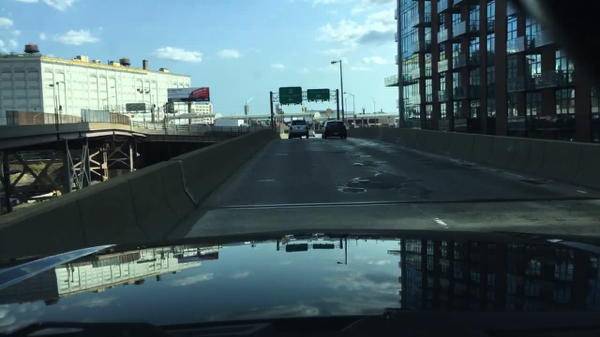car: (322, 119, 348, 140), (286, 120, 309, 139), (308, 130, 315, 137)
traffic light: (325, 110, 329, 118), (304, 104, 307, 114), (301, 105, 304, 112)
traffic sign: (279, 87, 301, 105), (306, 89, 329, 101), (126, 103, 146, 112)
truck: (212, 117, 249, 127)
